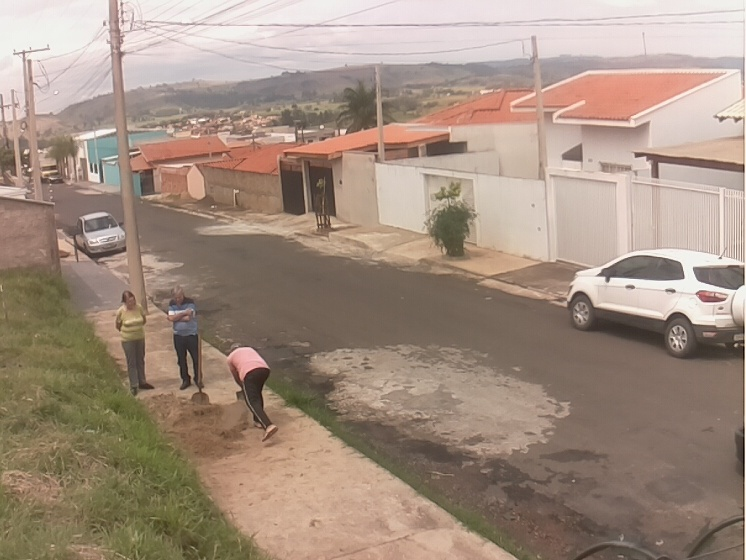person: (227, 341, 280, 443), (114, 290, 155, 396), (166, 286, 207, 390)
